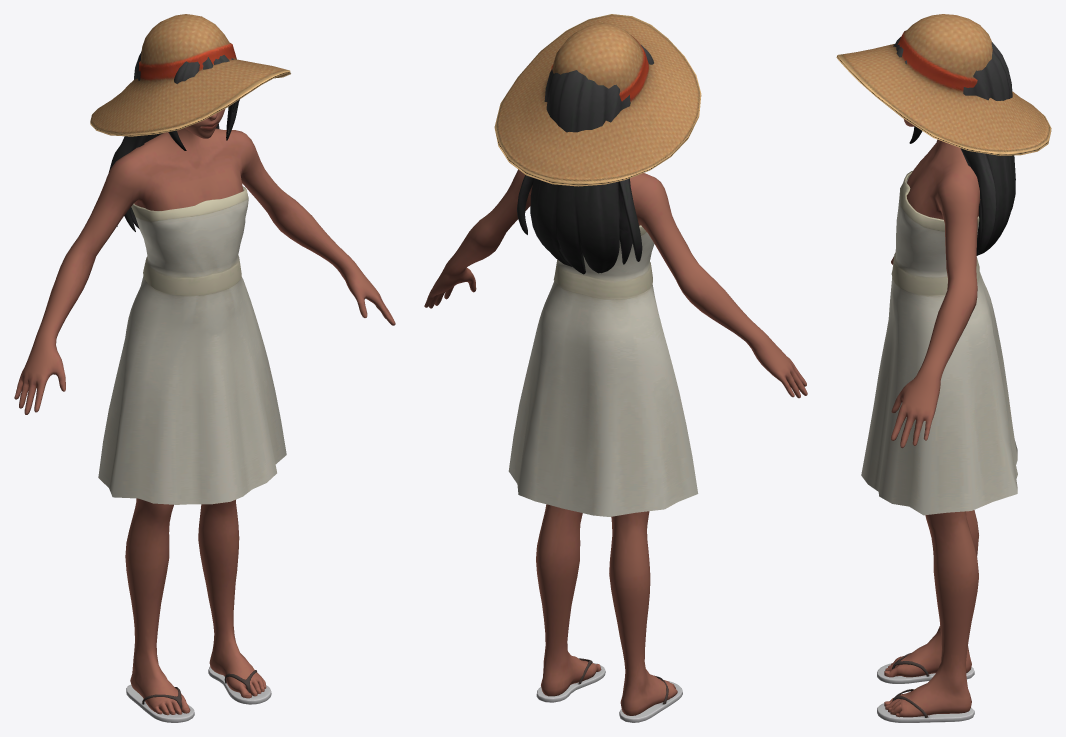
File: Sally_Mesh.obj
3 views of the same model, side by side, from view 1: azimuth 30°, elevation 25°; view 2: azimuth 150°, elevation 25°; view 3: azimuth 270°, elevation 25° (orthographic).
Parts seen in each view (by area): view 1: Sally_Mesh_0; view 2: Sally_Mesh_0; view 3: Sally_Mesh_0.
Part boxes in pixels (x1=…): Sally_Mesh_0: x1=14, y1=14, x2=395, y2=722; Sally_Mesh_0: x1=424, y1=14, x2=807, y2=722; Sally_Mesh_0: x1=836, y1=14, x2=1051, y2=722.
Bounding box in the file's own units: 1.06 × 1.82 × 0.5252.
1 material, 1 textured.
